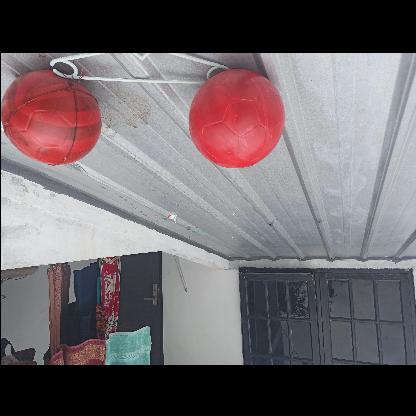red_ball: (2, 68, 102, 168), (188, 70, 288, 168)
